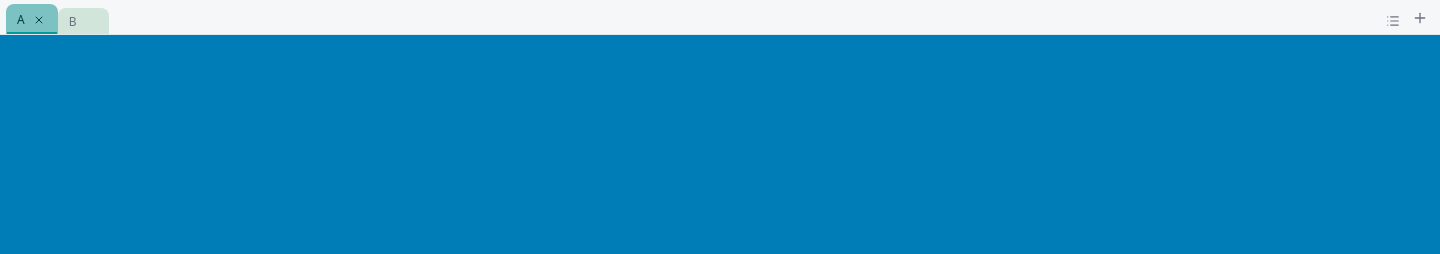
Scenario: TabBar › 菜单「重命名」进入内联输入
The width and height of the screenshot is (1440, 254).
Right-click the button "A": (32, 19) x1=6 y1=4 x2=58 y2=34
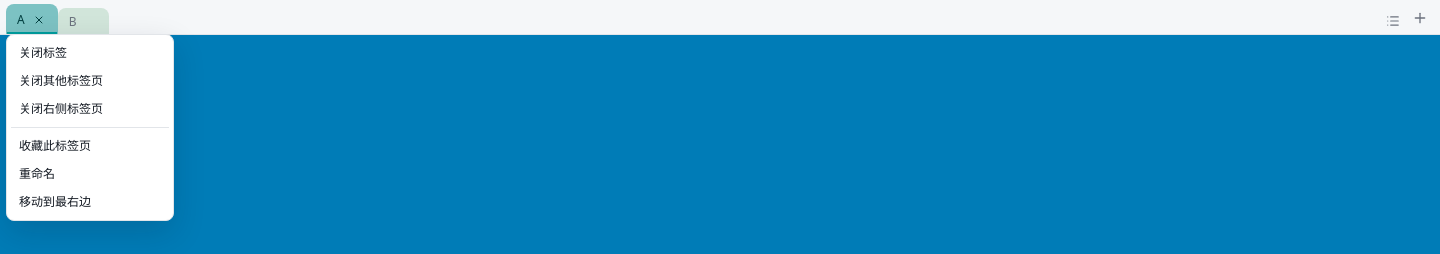
Click the button "重命名": (90, 174) x1=11 y1=160 x2=169 y2=188
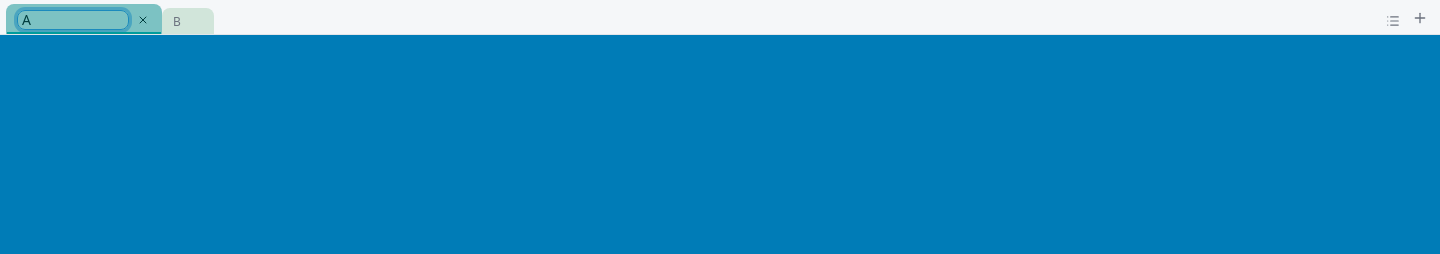
Check: the field showing "A" is shown, box x1=17 y1=10 x2=129 y2=30
